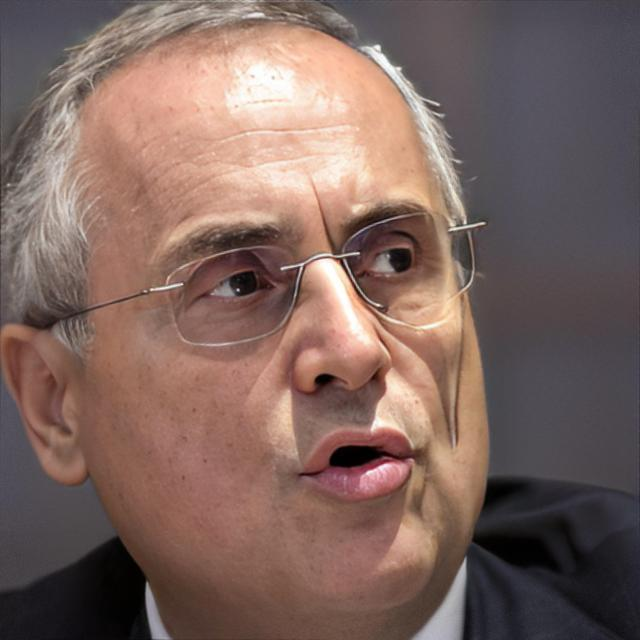anger: (81, 45, 470, 603)
